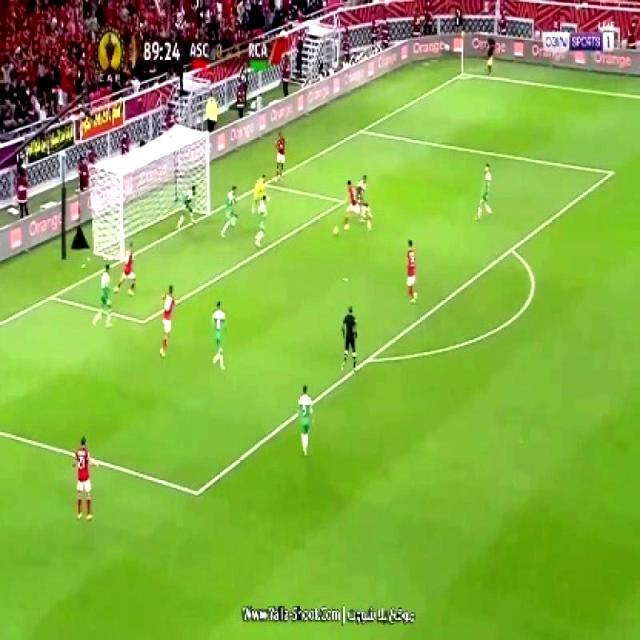bigarea_bottom_inner: (181, 474, 209, 509)
bigarea_top_inner: (602, 162, 618, 183)
bigarea_top_outter: (352, 120, 370, 138)
bottom_arc_area_intersection: (360, 348, 378, 369)
corner: (452, 66, 471, 82)
smallarea_bottom_inner: (132, 306, 152, 334)
smallarea_bottom_outter: (42, 282, 60, 308)
smallarea_top_inner: (334, 191, 349, 211)
smallarea_top_outter: (254, 174, 269, 192)
top_arc_area_intersection: (504, 238, 518, 258)
